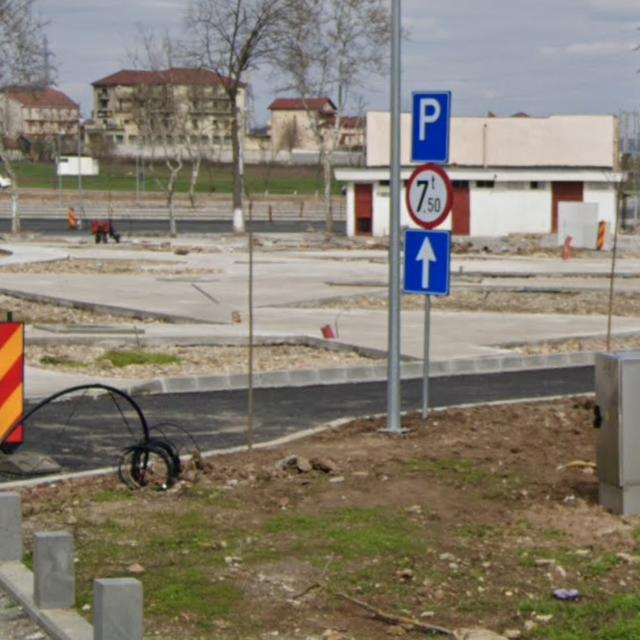forb_weight_over_7.5t: (406, 164, 453, 229)
info_one_way_traffic: (402, 230, 452, 295)
info_parking: (410, 90, 450, 164)
